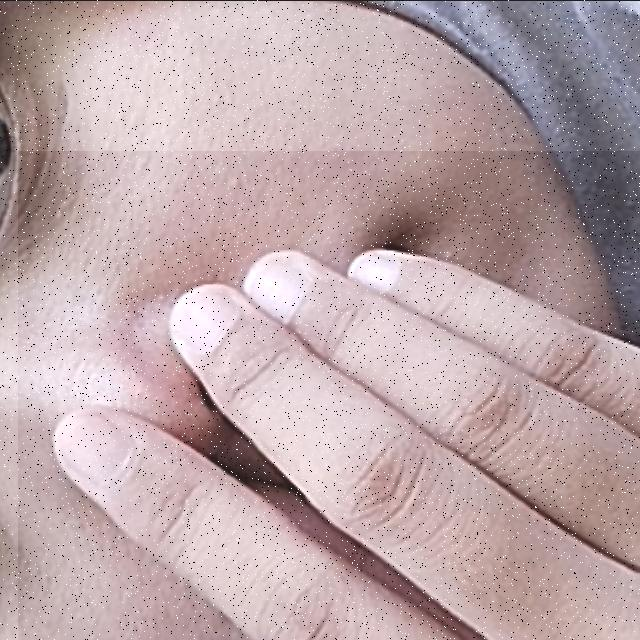bau: (18, 150, 640, 640)
